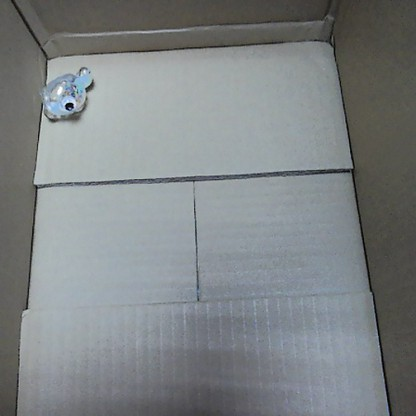whitefish: (36, 65, 96, 125)
